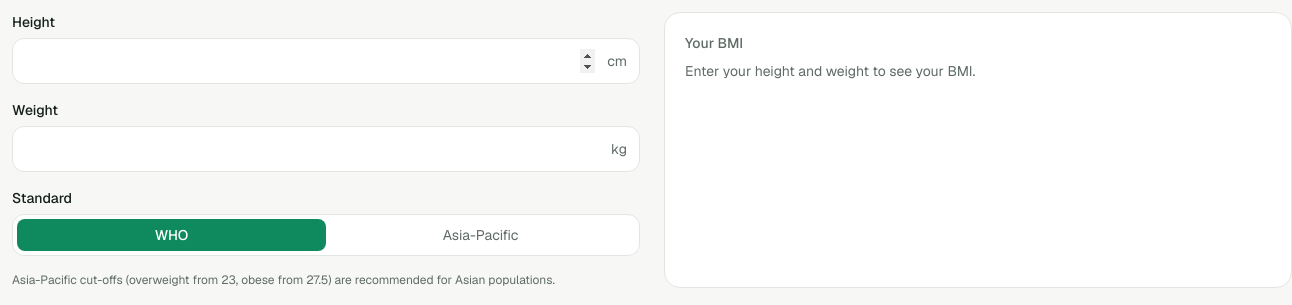
Test: BmiCalculator › re-categorises a borderline BMI under Asia-Pacific cut-offs
Type "170" into the number field labelled "Height".
click(310, 61); type("170")  # box [13,39,607,83]
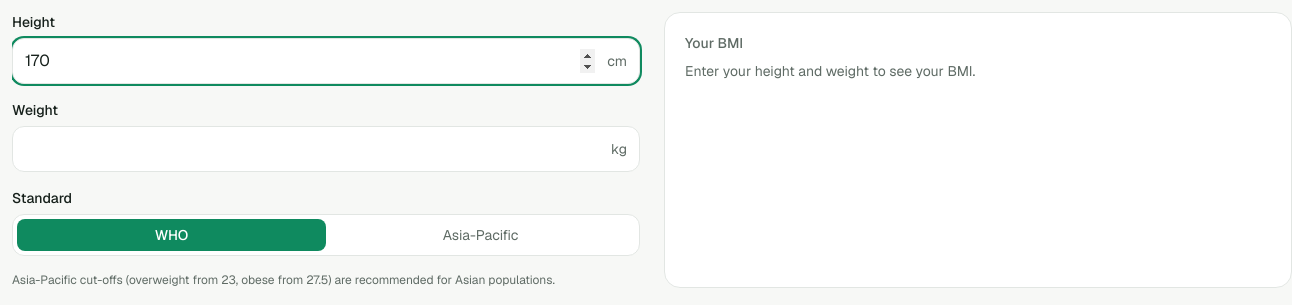
Type "69.4" into the number field labelled "Weight".
click(312, 149); type("69.4")  # box [13,127,611,171]
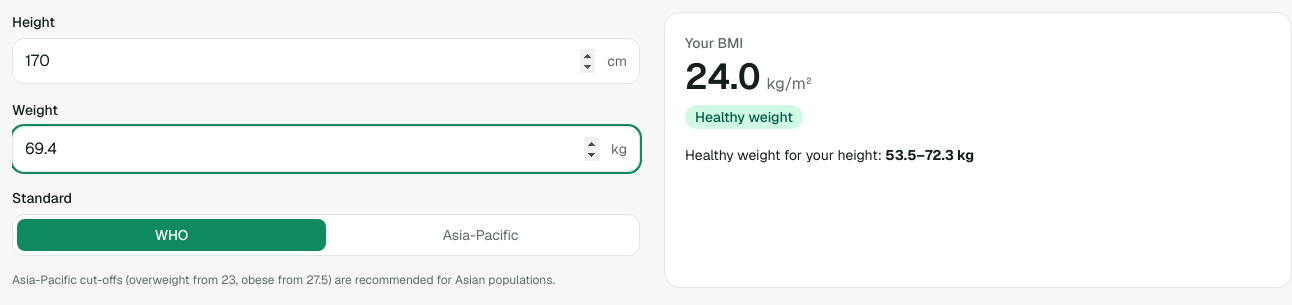
Check: the text "Healthy weight" is shown, box [685,105,803,129]
Click the radio button labelled "Asia-Pacific".
click(480, 235)  # box [326,219,635,251]
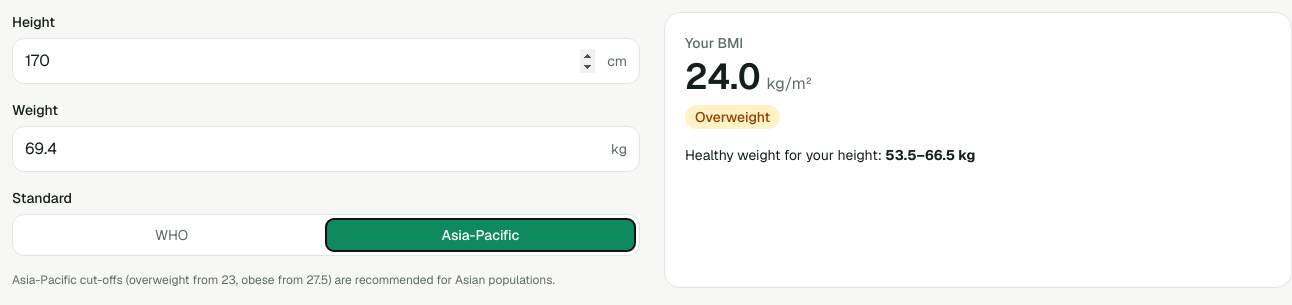
Check: the text "Overweight" is shown, box [685,105,780,129]
